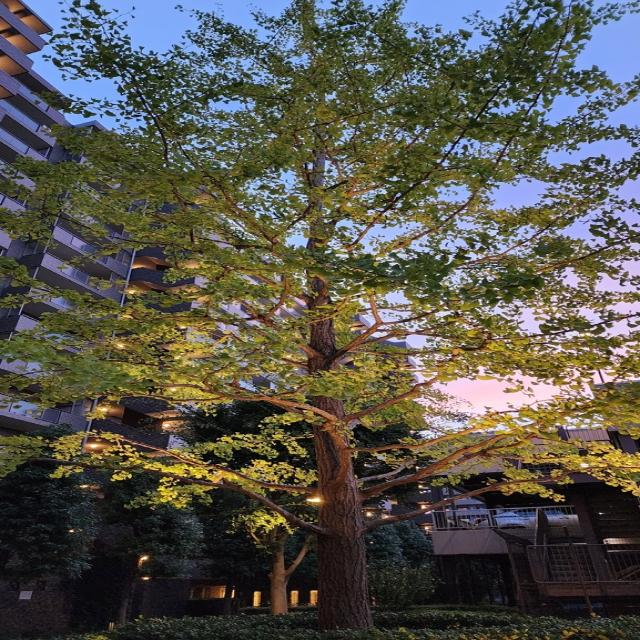ginkgo: (0, 0, 640, 630)
